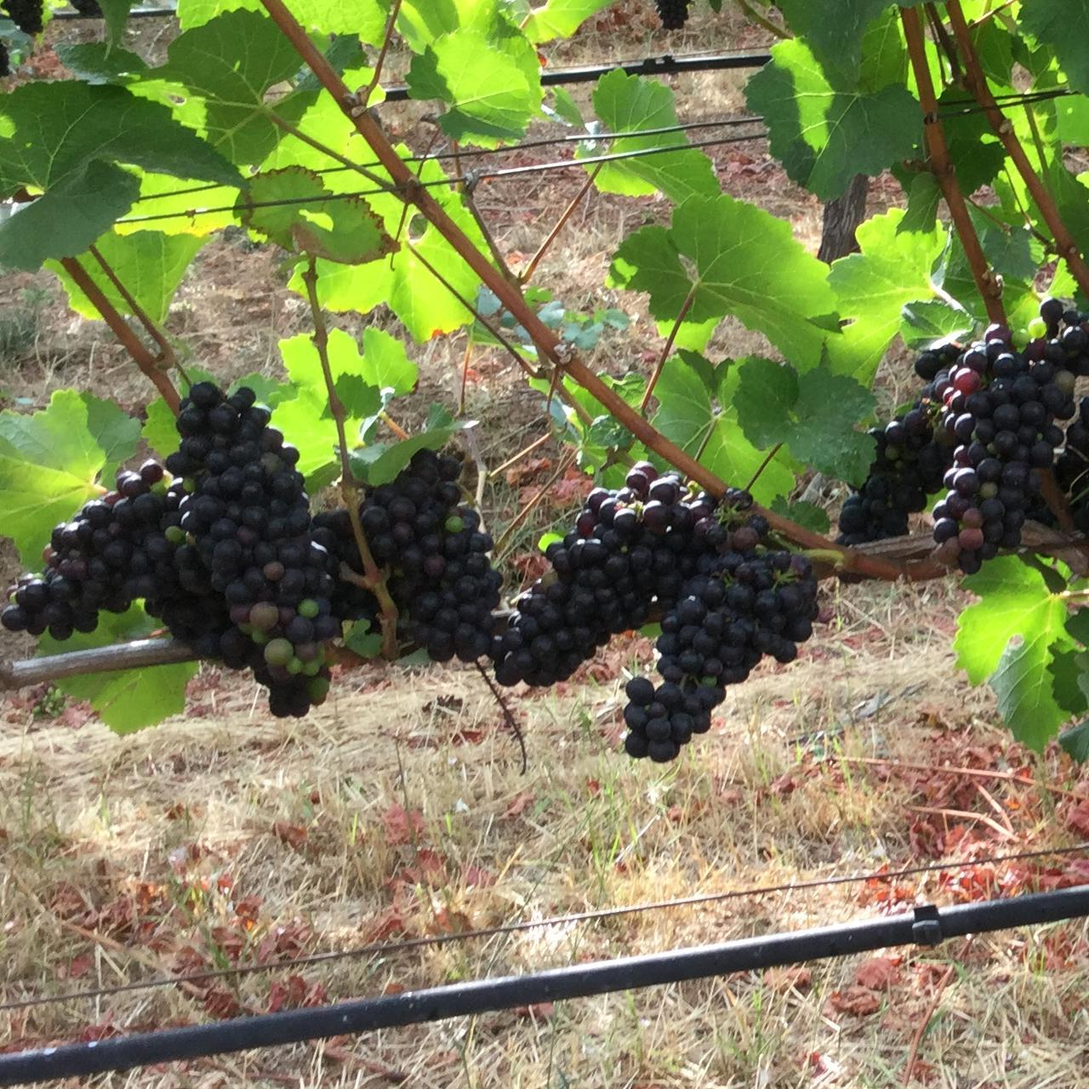Grape Ripe: (602, 524, 868, 766), (498, 443, 715, 710), (176, 345, 324, 701), (354, 426, 520, 693), (941, 324, 1089, 587), (11, 470, 205, 657), (858, 345, 937, 577)
